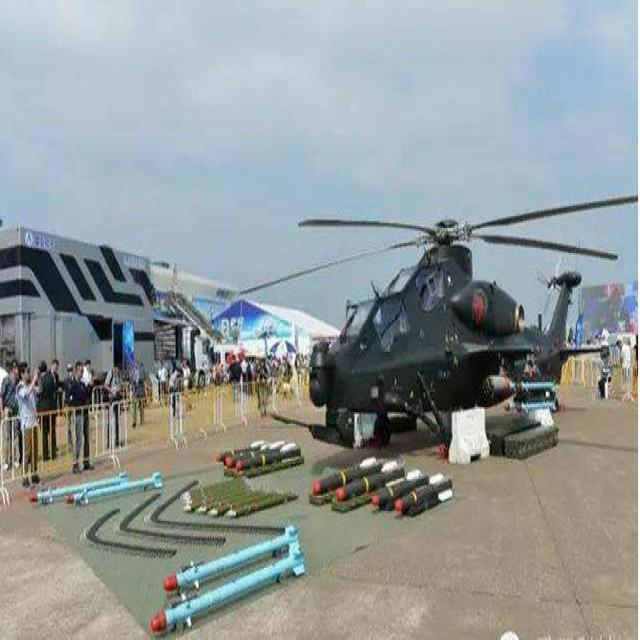MIL_HELO: (239, 195, 622, 455)
